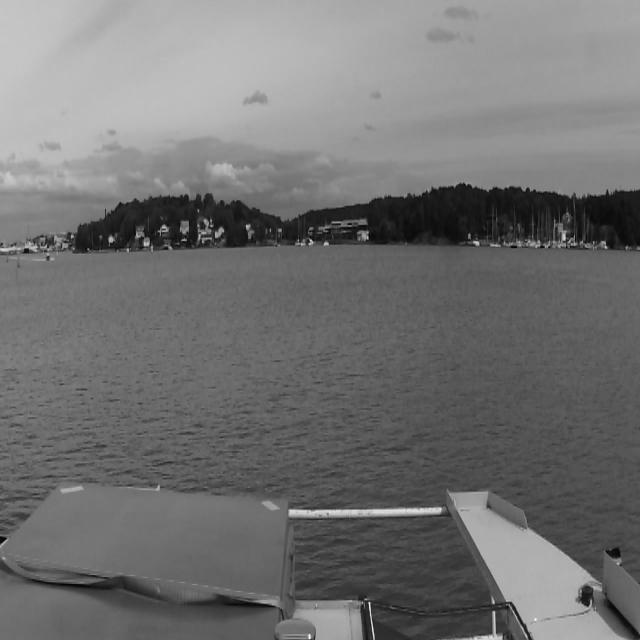ship: (490, 206, 501, 248), (510, 204, 518, 248), (530, 204, 534, 249), (597, 240, 607, 249), (308, 239, 314, 245), (301, 239, 306, 246), (324, 241, 330, 246), (46, 253, 50, 260), (296, 239, 300, 246)
